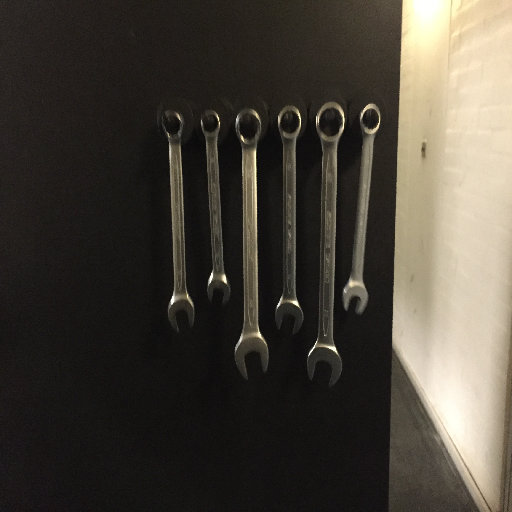bottom: (232, 329, 270, 382), (305, 338, 344, 389), (164, 293, 197, 335), (273, 295, 306, 337), (340, 277, 369, 317), (204, 268, 232, 304)
top: (314, 100, 346, 145), (232, 107, 264, 149), (276, 104, 303, 140), (357, 101, 382, 138), (160, 108, 186, 140), (197, 108, 222, 140)
